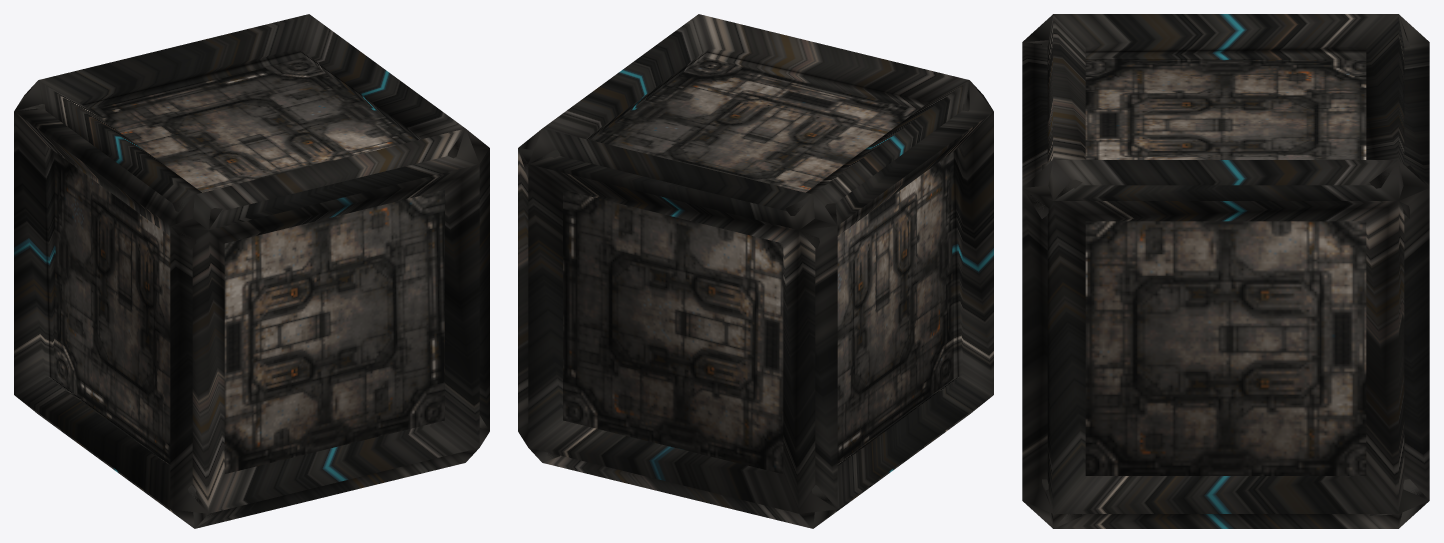
Rendered from winery_box.glb.
3 views of the same model, side by side, from view 1: azimuth 30°, elevation 25°; view 2: azimuth 150°, elevation 25°; view 3: azimuth 270°, elevation 25° (orthographic). The views are drawn at different scales.
Visible parts, largest first — view 1: Cube; view 2: Cube; view 3: Cube.
Boxes of the visible parts, left/top/right/bottom form: Cube: left=14, top=14, right=489, bottom=528; Cube: left=518, top=14, right=993, bottom=528; Cube: left=1022, top=14, right=1429, bottom=528.
Bounding box in the file's own units: 2.52 × 2.52 × 2.52.
Materials: 1 (1 with a texture image).
